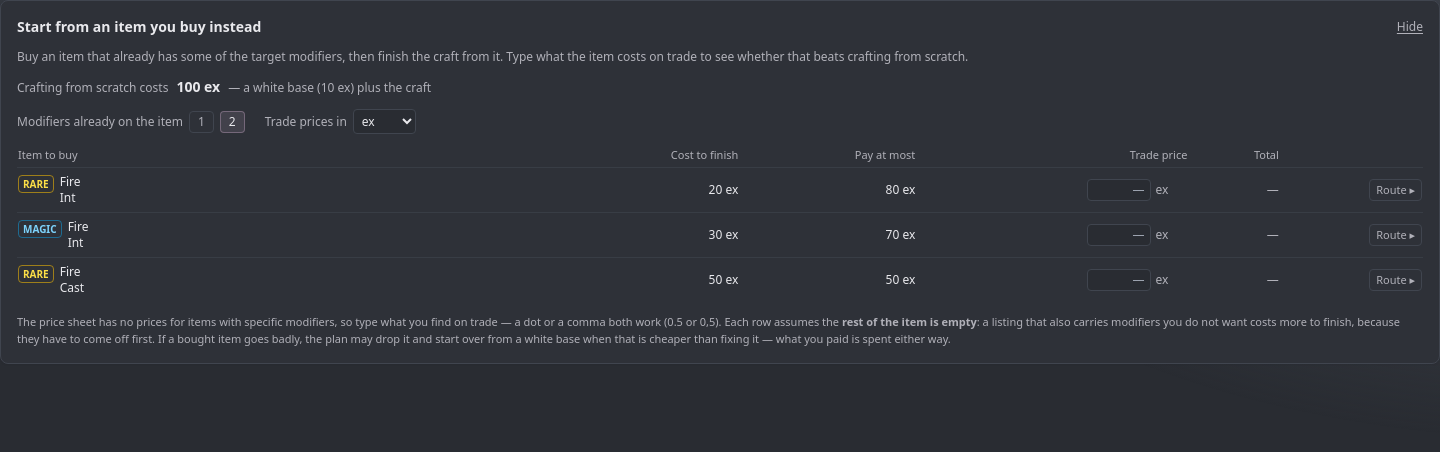
Scenario: StartFromItem — the items you could buy instead of a white base › says so, instead of drawing a graph, when an item’s cheapest move is to start over
Click the button "1": (201, 122) [189,110,214,132]
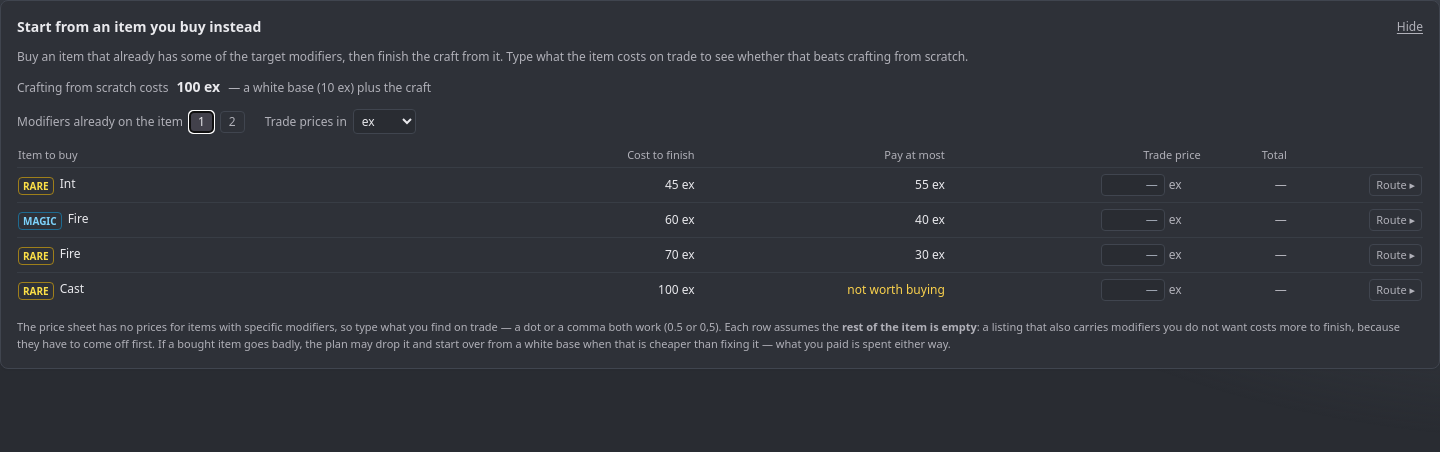
Click the button with aria-label "Route from Rare · Cast": (1396, 290) [1369,279,1422,301]
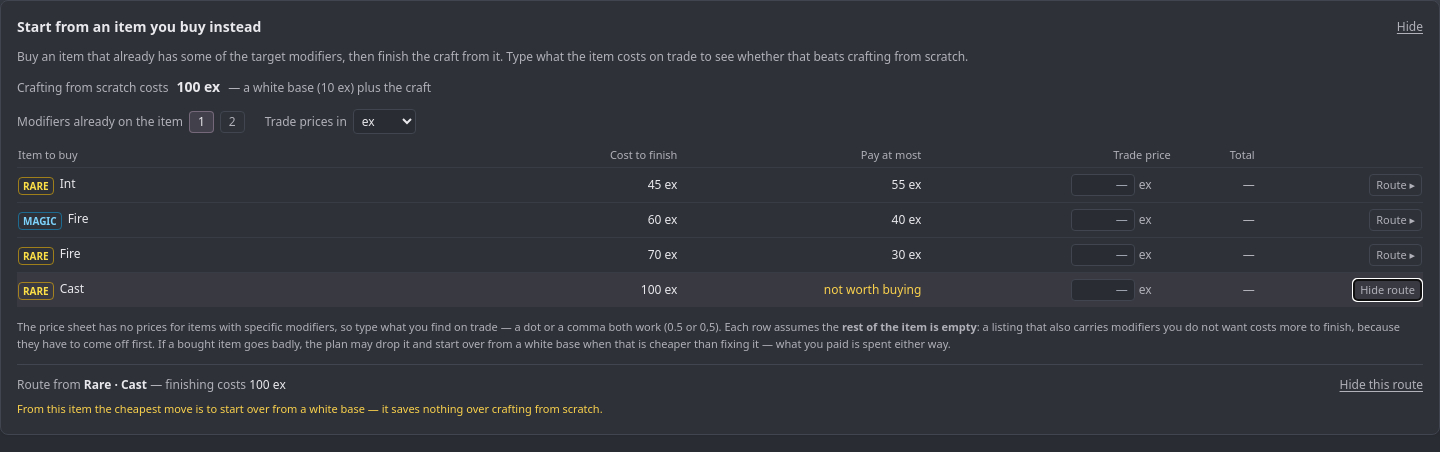
Check: the text "cheapest move is to start over from a white base" is shown, box [17,401,603,416]
